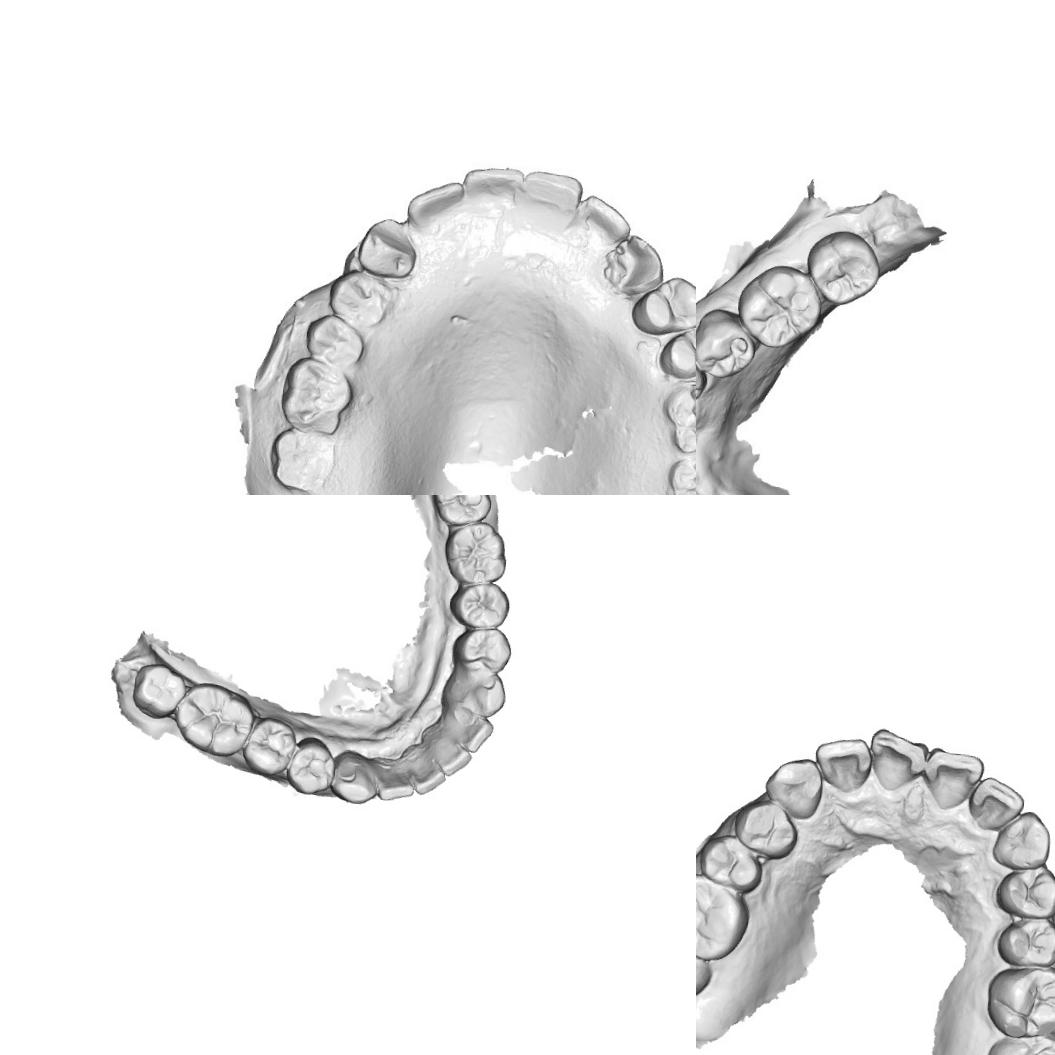canine: (762, 754, 825, 821), (354, 216, 419, 278), (990, 808, 1052, 871), (439, 665, 508, 719), (612, 233, 664, 296), (328, 748, 380, 806)
incisor: (919, 745, 986, 814), (866, 726, 930, 790), (812, 733, 874, 794), (966, 774, 1026, 836), (518, 170, 581, 218), (406, 180, 462, 229), (461, 166, 519, 210), (399, 746, 450, 796), (577, 199, 628, 246), (442, 711, 495, 755), (424, 734, 474, 778), (372, 754, 416, 802)
molar: (170, 678, 258, 758), (739, 263, 821, 346), (984, 959, 1055, 1041), (281, 358, 354, 434), (696, 872, 750, 965), (440, 518, 510, 586), (266, 424, 332, 492), (810, 233, 877, 299), (128, 660, 188, 721), (660, 374, 696, 453), (430, 495, 494, 528), (983, 1026, 1055, 1055), (696, 925, 718, 1004), (662, 448, 696, 495)
premolar: (627, 272, 696, 341), (696, 832, 771, 892), (730, 797, 800, 860), (696, 304, 753, 376), (240, 713, 299, 778), (993, 860, 1055, 920), (993, 913, 1055, 970), (297, 314, 361, 368), (446, 578, 511, 630), (329, 270, 385, 330), (283, 734, 336, 796), (449, 623, 513, 674), (655, 319, 696, 381), (696, 340, 710, 410)
